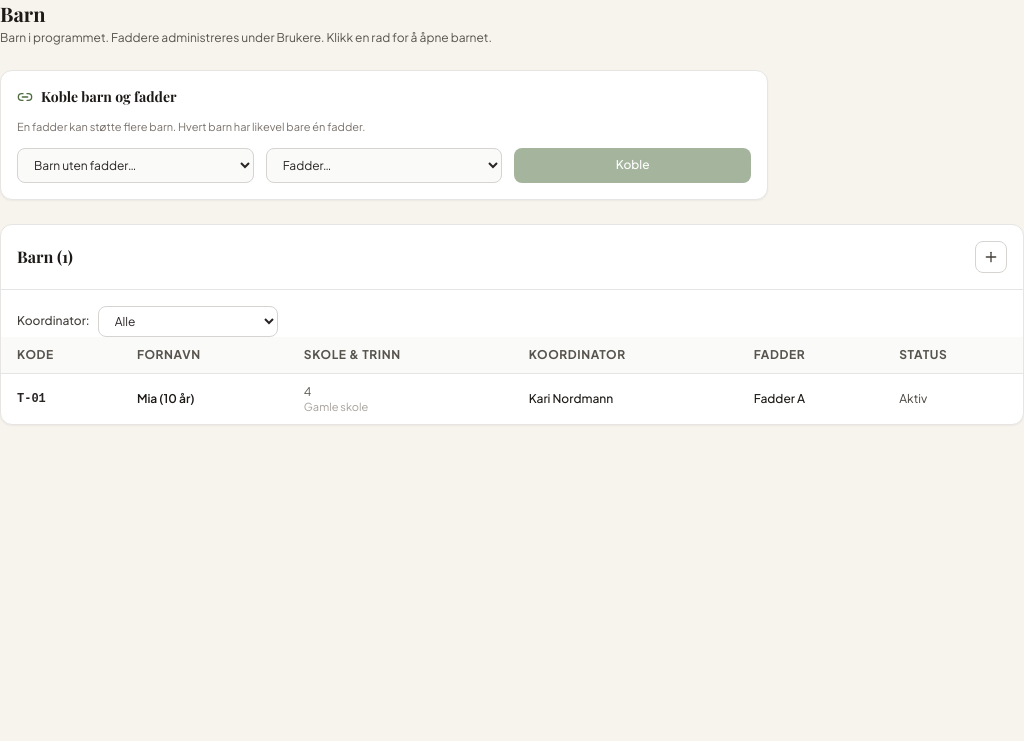
Opplysninger › viser lesemodus-note og intern kode
The image size is (1024, 741).
Click the text "T-01" at point(31, 399), box [1,373,121,424]
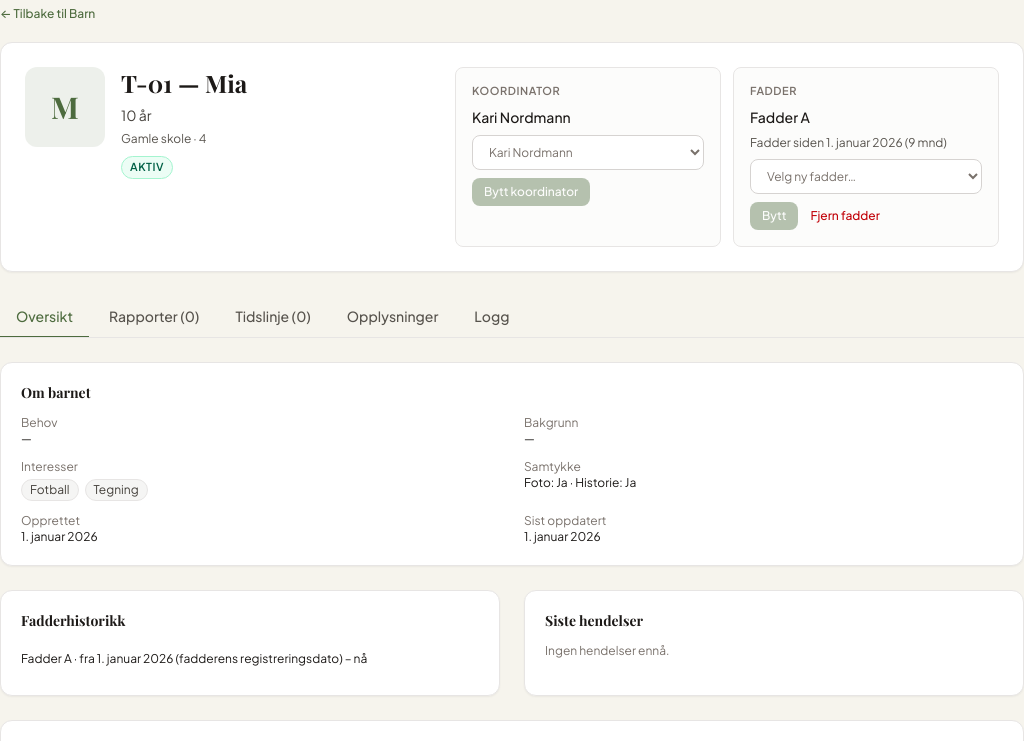
Click the tab "Opplysninger" at point(393, 317), box [331,296,454,338]
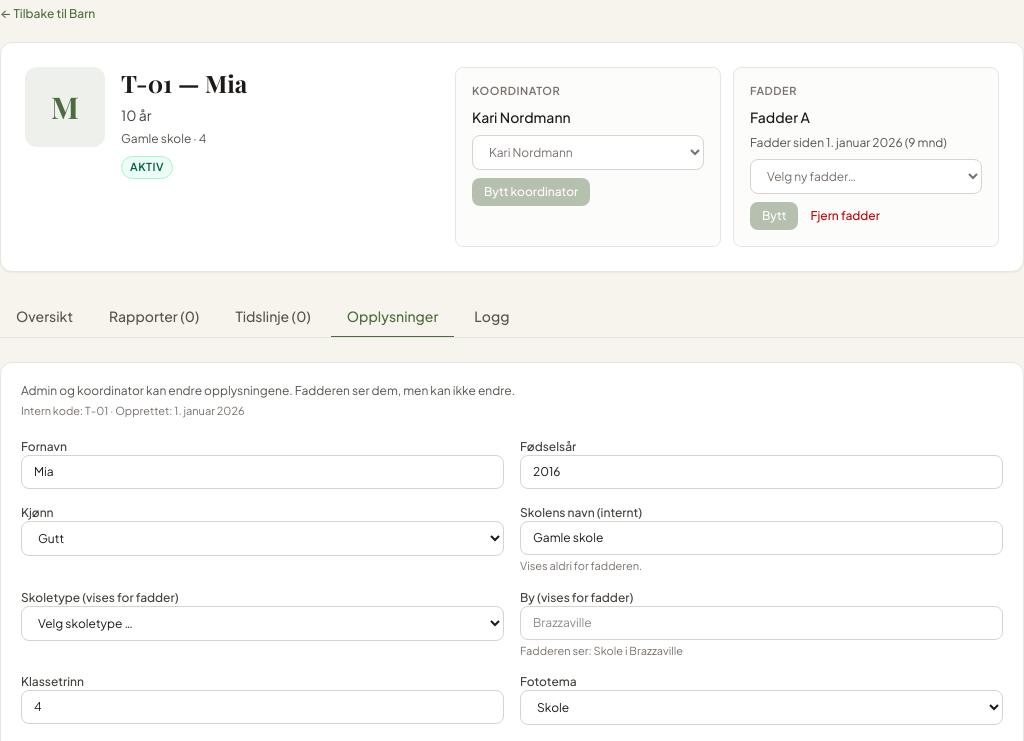
Expected: the text "Admin og koordinator kan endre opplysningene. Fadderen ser dem, men kan ikke endre." is shown, [21,383,515,398]
Expected: the text "Intern kode: T-01 · Opprettet: 1. januar 2026" is shown, [21,404,245,417]
